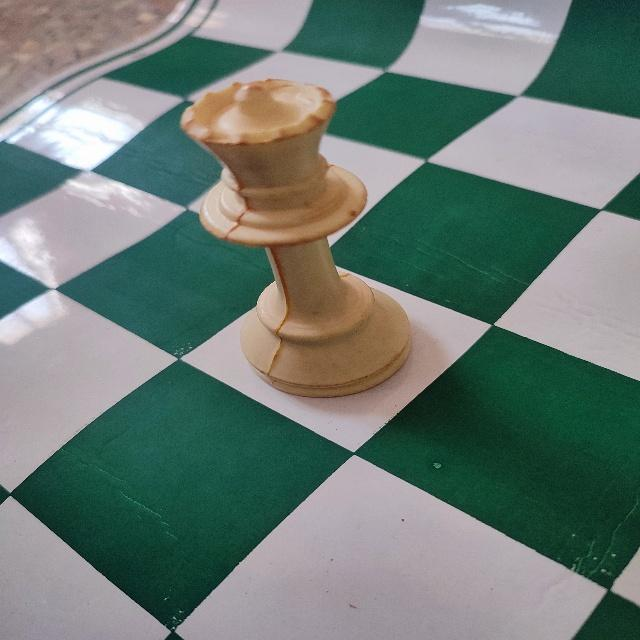Queen: (176, 70, 418, 400)
